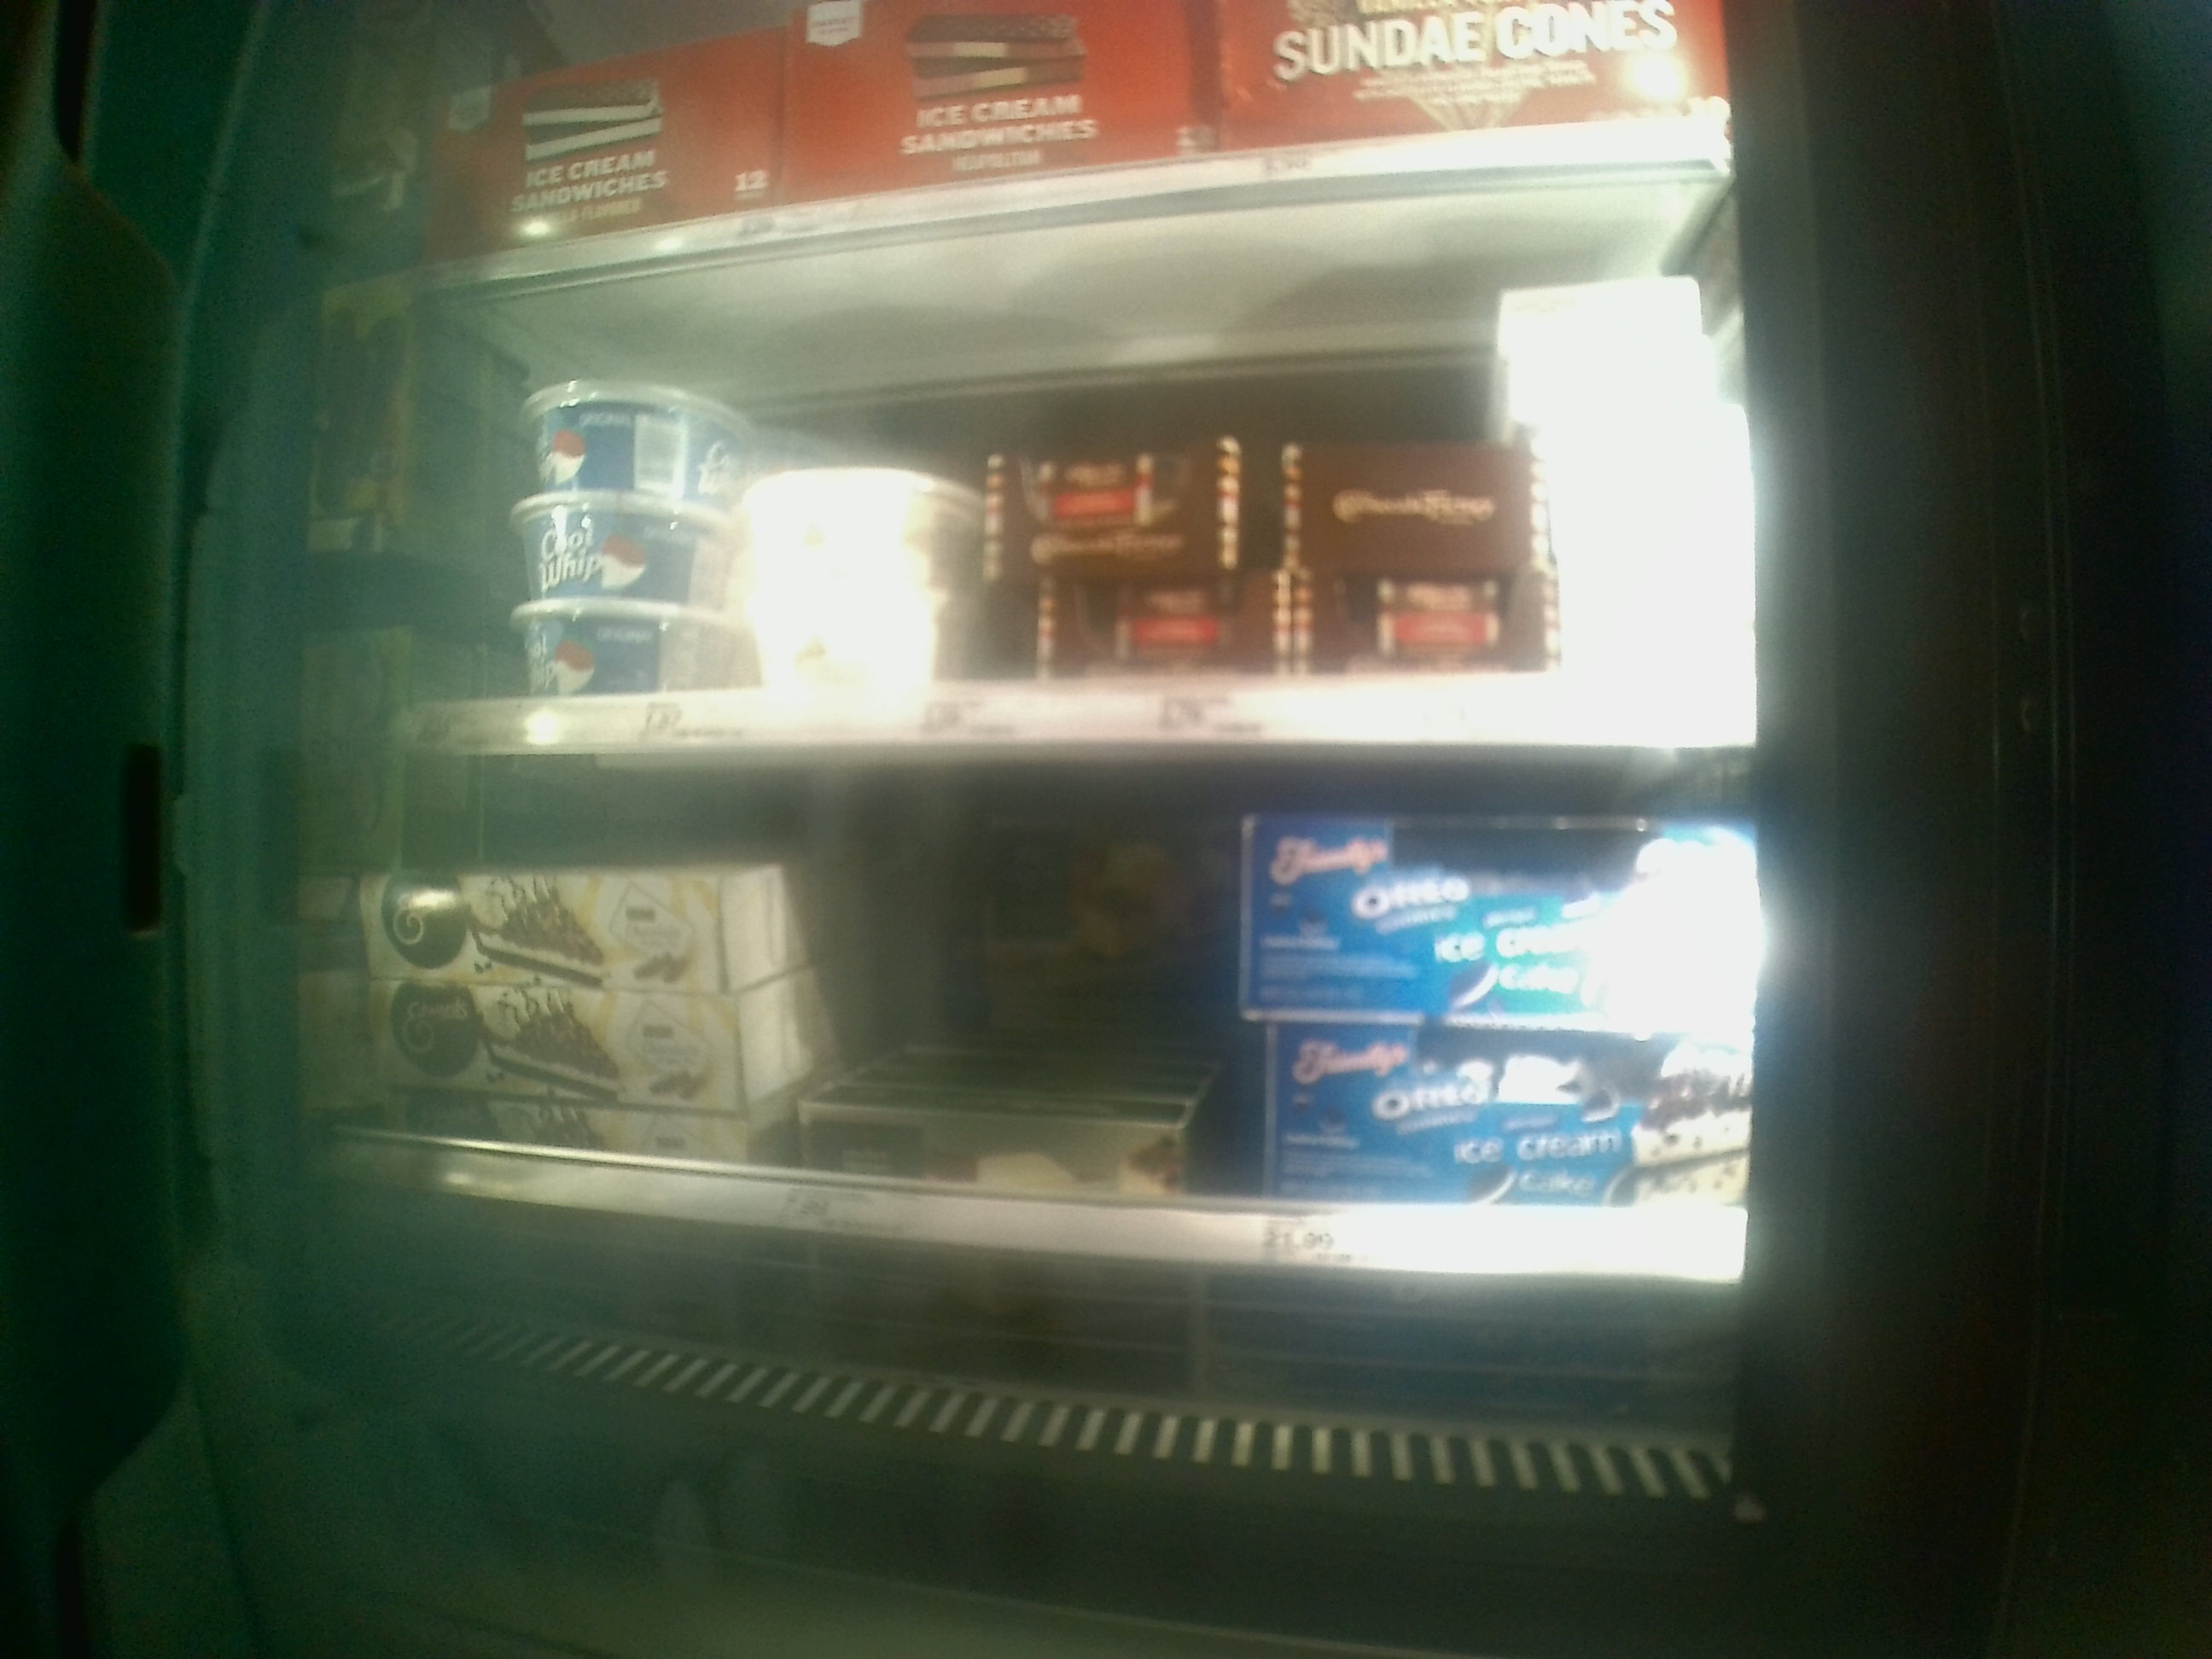frozen-food-shelf: (329, 758, 1780, 1288), (371, 307, 1761, 756)
